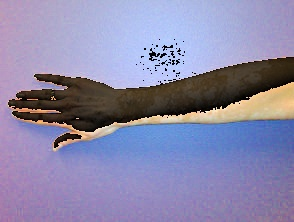vitiligo: (5, 35, 294, 159)
